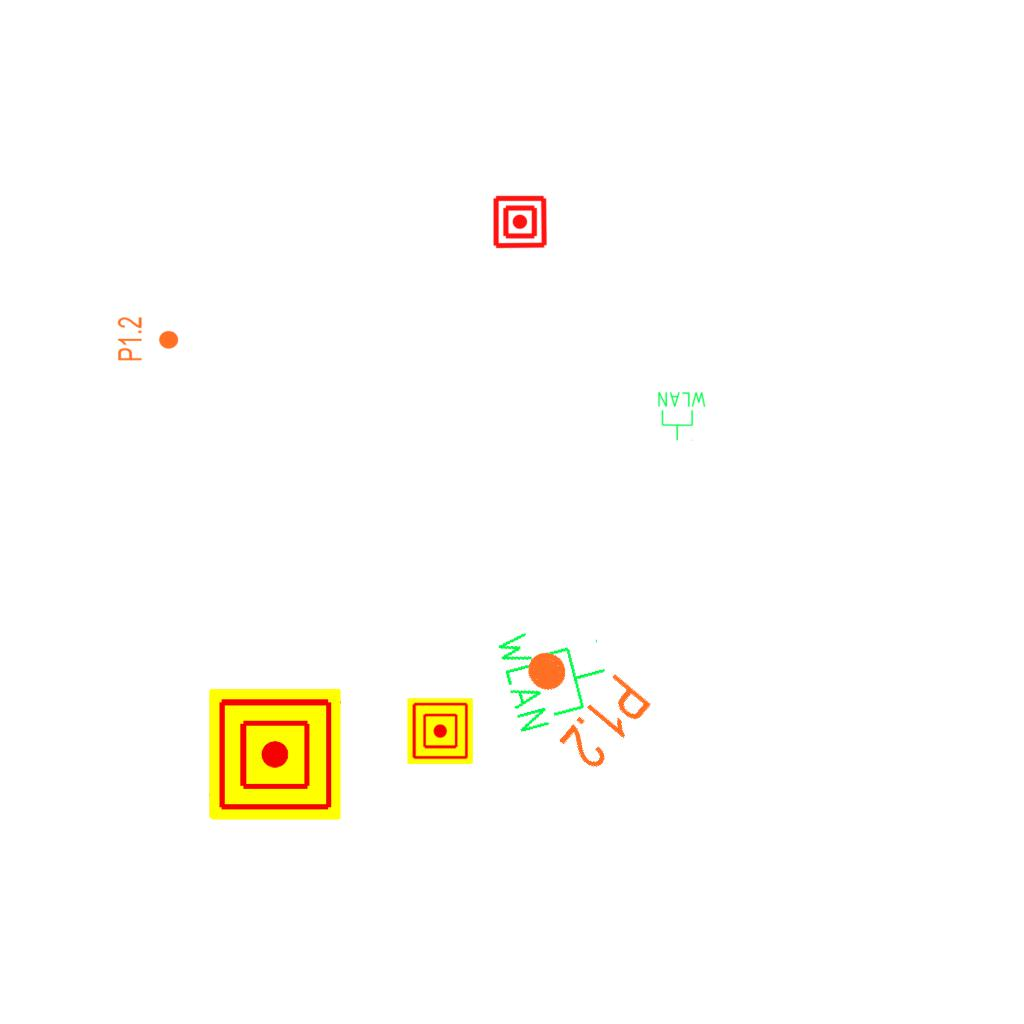Downlight_LED_Einbauleuchten_Flur: (498, 622, 657, 776), (116, 316, 180, 362)
NAM-Nichtautomatischer_Melder: (209, 688, 341, 820), (407, 698, 473, 764), (492, 194, 548, 250)
WLAN: (491, 609, 619, 738), (656, 390, 708, 442)
